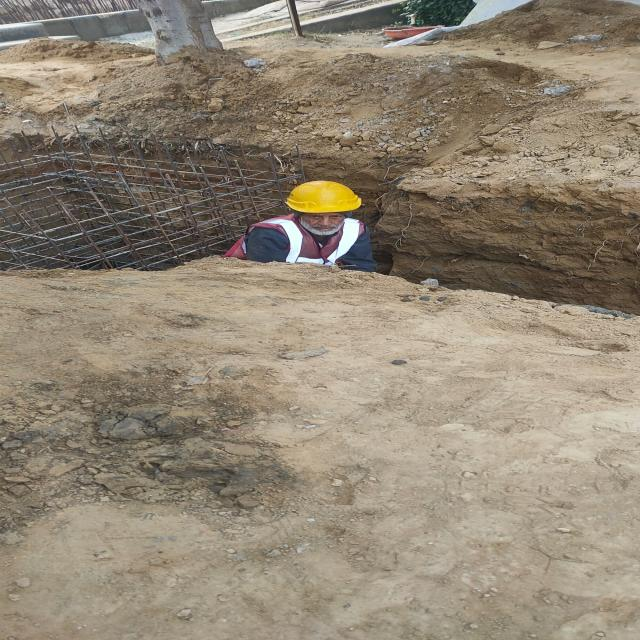safe: (224, 182, 397, 267)
